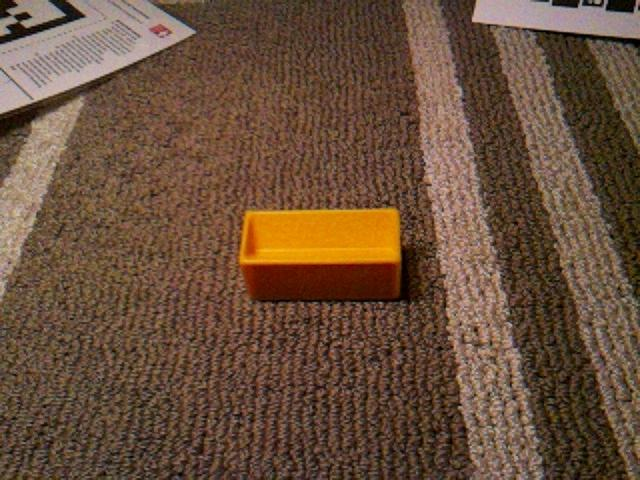yellow: (238, 206, 404, 303)
